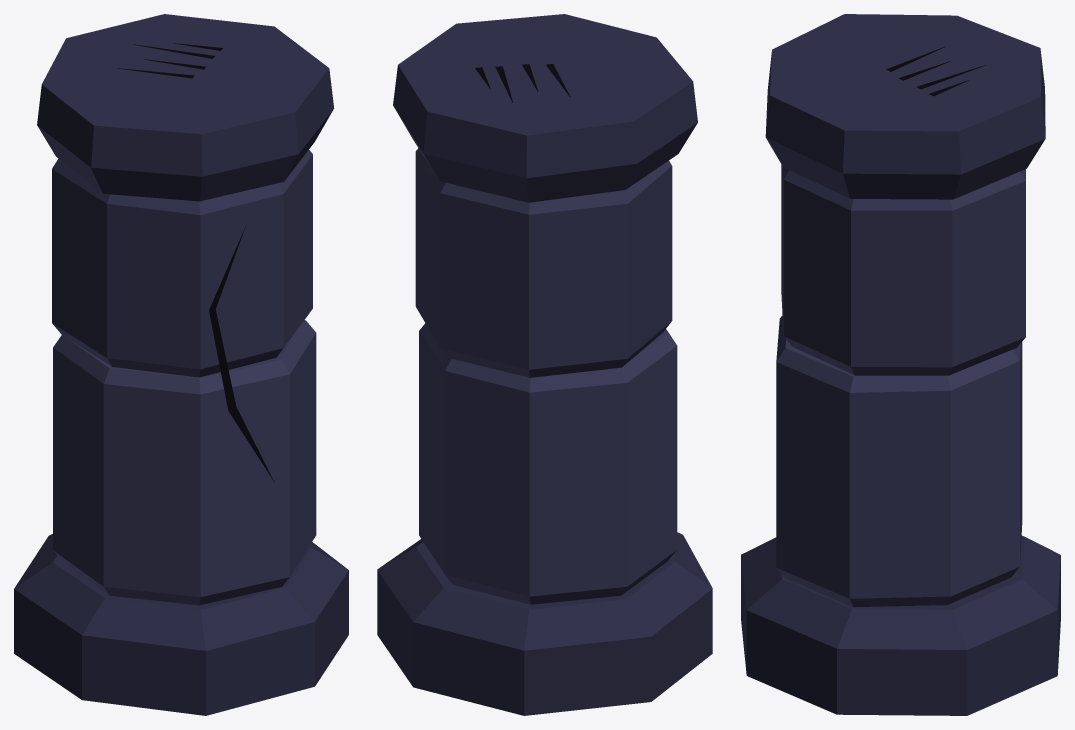
Rendered from column.glb.
3 renders of one model, left to right at view 1: azimuth 30°, elevation 25°; view 2: azimuth 150°, elevation 25°; view 3: azimuth 270°, elevation 25°, orthographic.
Parts seen in each view (by area): view 1: column.001; view 2: column.001; view 3: column.001.
Boxes of the visible parts, <box> form: column.001: <box>14,14,348,715</box>; column.001: <box>377,14,712,715</box>; column.001: <box>741,14,1060,715</box>.
Bounding box in the file's own units: 0.7 × 1.4 × 0.7.
